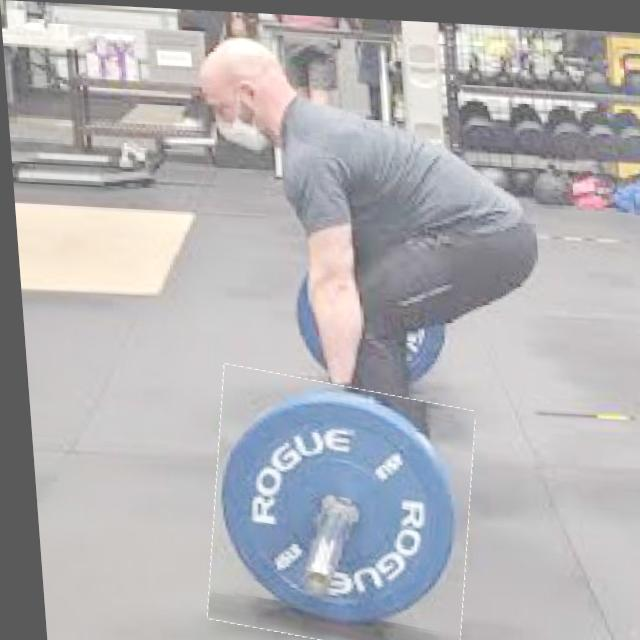barbell: (193, 369, 476, 640)
